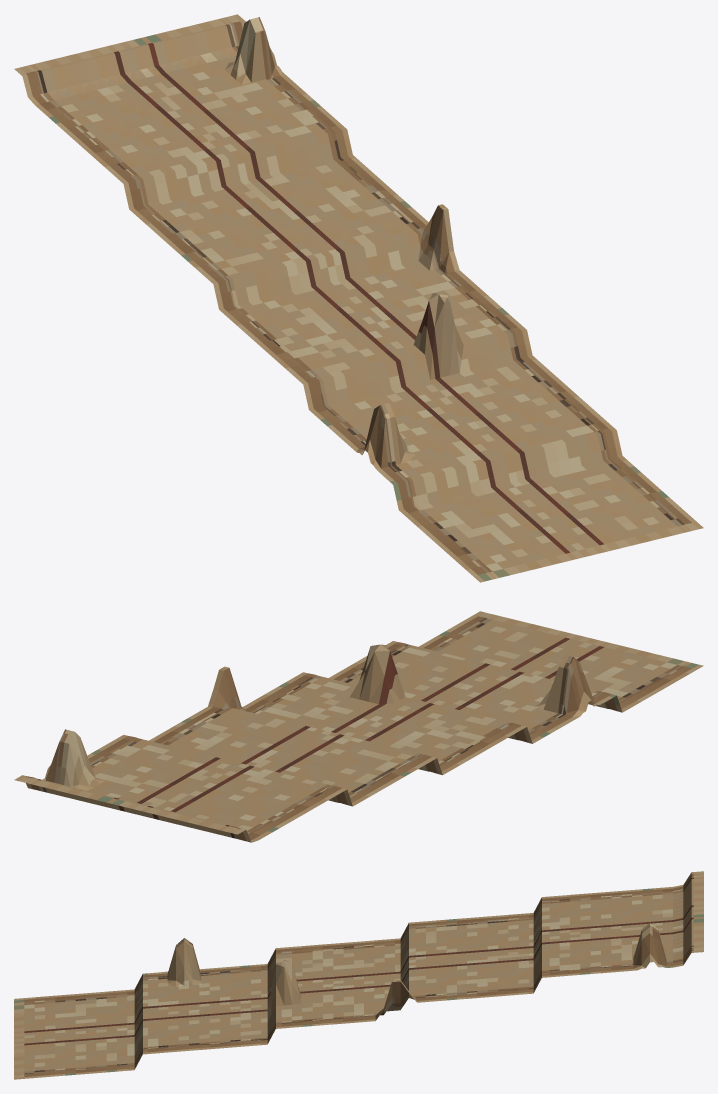
The model's file is liner_east_ribs.glb.
The picture shows the model from 3 angles, top to bottom: view 1: azimuth 30°, elevation 25°; view 2: azimuth 150°, elevation 25°; view 3: azimuth 270°, elevation 25°; orthographic projection. The views are drawn at different scales.
Parts seen in each view (by area): view 1: liner_east_ribs_body; view 2: liner_east_ribs_body; view 3: liner_east_ribs_body.
Part boxes in pixels (bbox=[...]): liner_east_ribs_body: bbox=[14, 14, 703, 582]; liner_east_ribs_body: bbox=[14, 611, 703, 842]; liner_east_ribs_body: bbox=[14, 871, 703, 1079].
Bounding box in the file's own units: 46 × 39.29 × 166.
